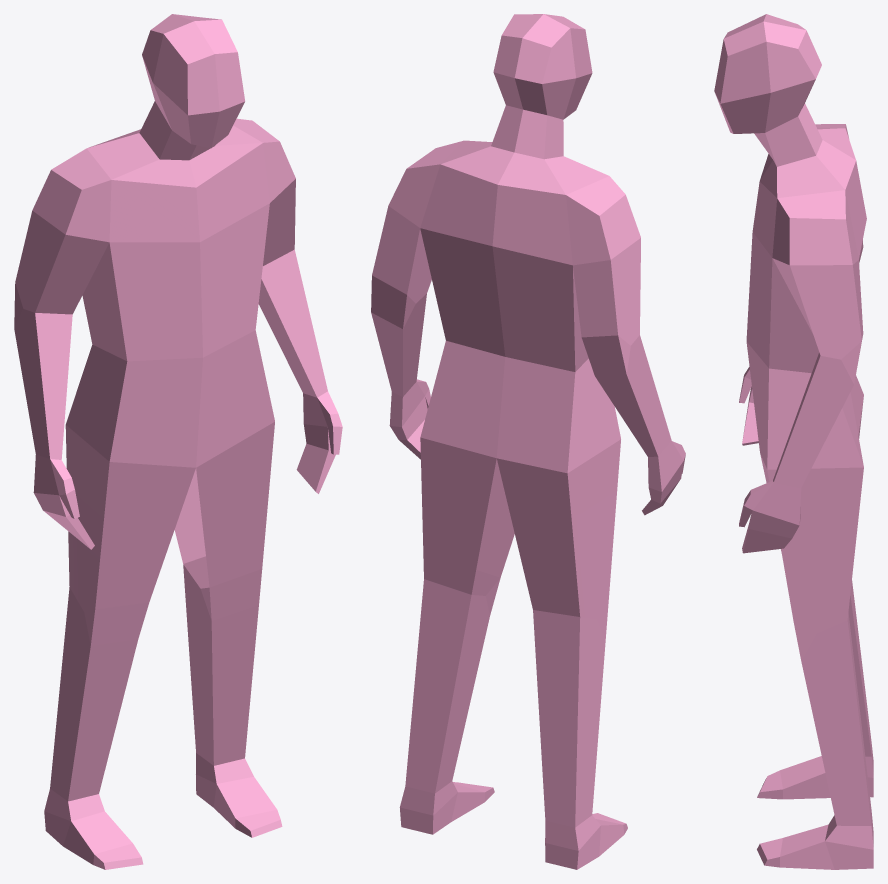
The model's file is GGJ2025_Humano_Rosa.fbx.
3 views of the same model, side by side, from view 1: azimuth 30°, elevation 25°; view 2: azimuth 150°, elevation 25°; view 3: azimuth 270°, elevation 25° (orthographic). The views are drawn at different scales.
Parts seen in each view (by area): view 1: Human.001; view 2: Human.001; view 3: Human.001.
Part boxes in pixels (left/top/right/bottom): Human.001: left=14, top=14, right=342, bottom=869; Human.001: left=371, top=14, right=685, bottom=869; Human.001: left=714, top=14, right=873, bottom=869.
Size of the model in its own units: 101 by 282 by 50.76.
